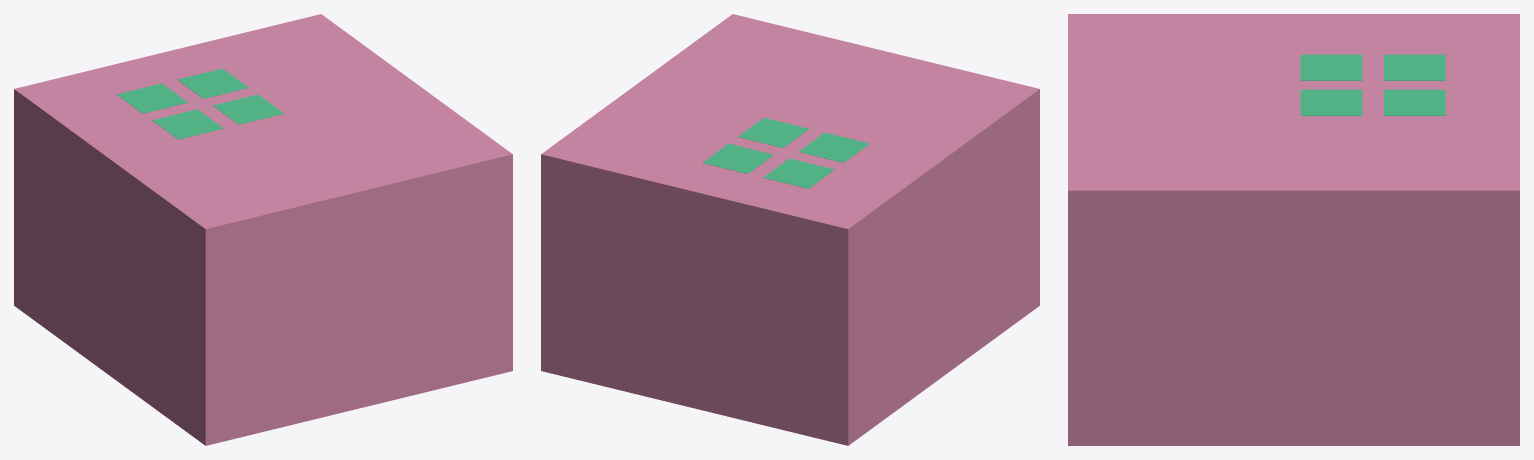
File: ind_bld_09_conc-towers.dae
3 views of the same model, side by side, from view 1: azimuth 30°, elevation 25°; view 2: azimuth 150°, elevation 25°; view 3: azimuth 270°, elevation 25° (orthographic). The views are drawn at different scales.
Parts seen in each view (by area): view 1: Untitled, Colmesh-1; view 2: Untitled, Colmesh-1; view 3: Untitled, Colmesh-1.
Boxes of the visible parts, bbox=[...] form: Untitled: bbox=[14, 14, 512, 445]; Colmesh-1: bbox=[117, 68, 284, 139]; Untitled: bbox=[541, 14, 1039, 445]; Colmesh-1: bbox=[702, 117, 869, 188]; Untitled: bbox=[1068, 14, 1519, 445]; Colmesh-1: bbox=[1300, 54, 1445, 115].
Size of the model in its own units: 30.43 by 32.88 by 20.53.
